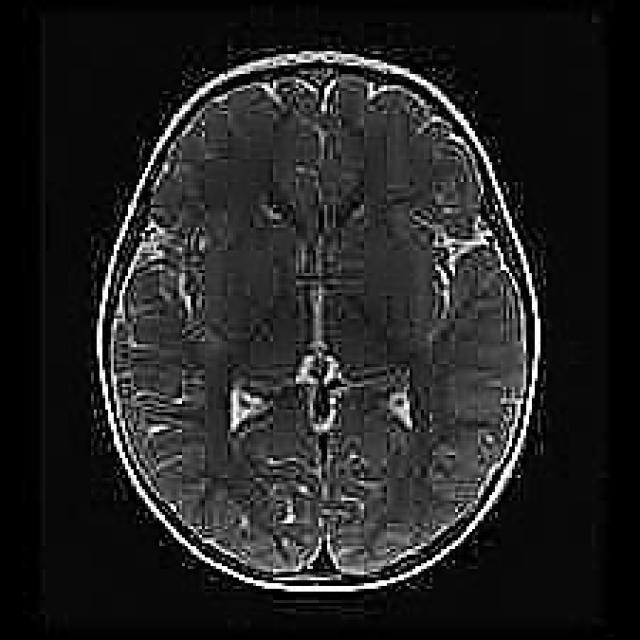notumor: (97, 54, 535, 592)
